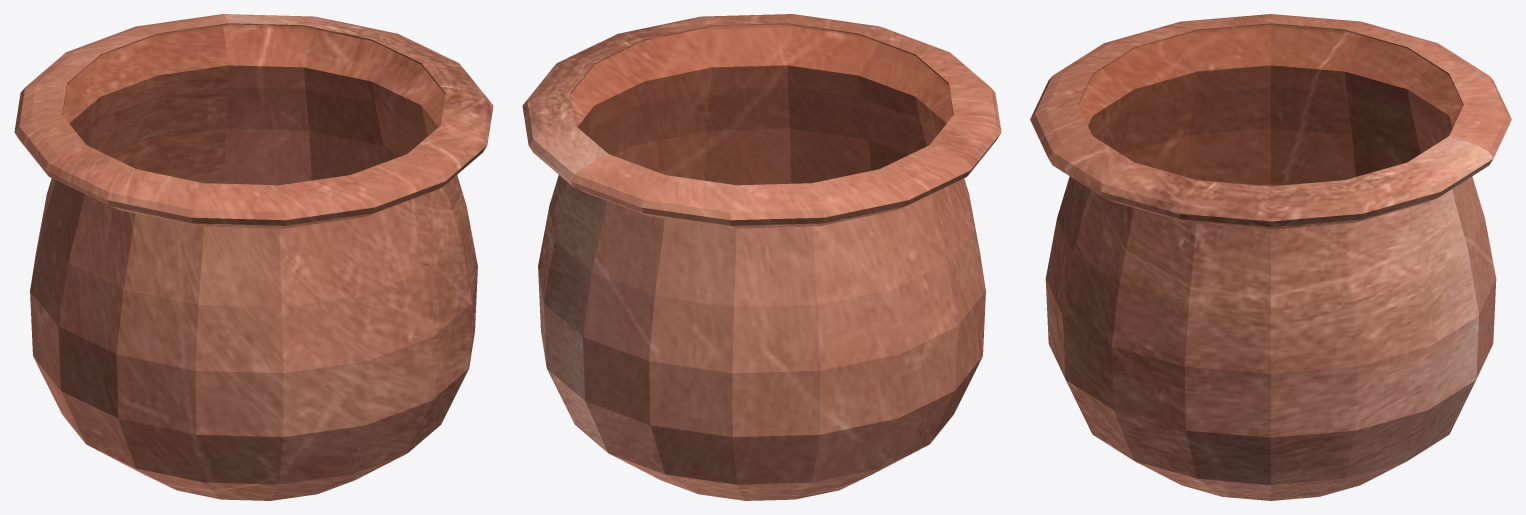
The model's file is caldero_shell.FBX.
3 renders of one model, left to right at view 1: azimuth 30°, elevation 25°; view 2: azimuth 150°, elevation 25°; view 3: azimuth 270°, elevation 25°, orthographic.
Visible parts, largest first — view 1: Caldero; view 2: Caldero; view 3: Caldero.
Part boxes in pixels (x1=…): Caldero: x1=14, y1=14, x2=493, y2=500; Caldero: x1=522, y1=14, x2=1001, y2=500; Caldero: x1=1030, y1=14, x2=1511, y2=500.
Bounding box in the file's own units: 3.73 × 3.09 × 3.73.
1 material, 1 textured.
